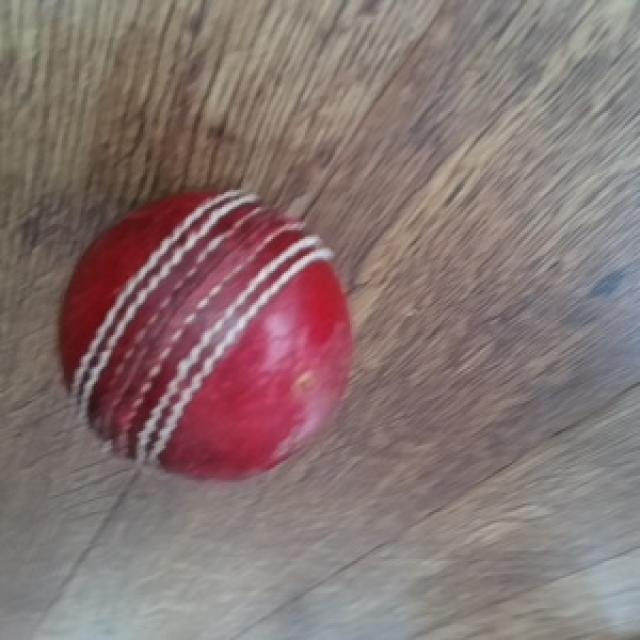ball: (55, 190, 356, 486)
